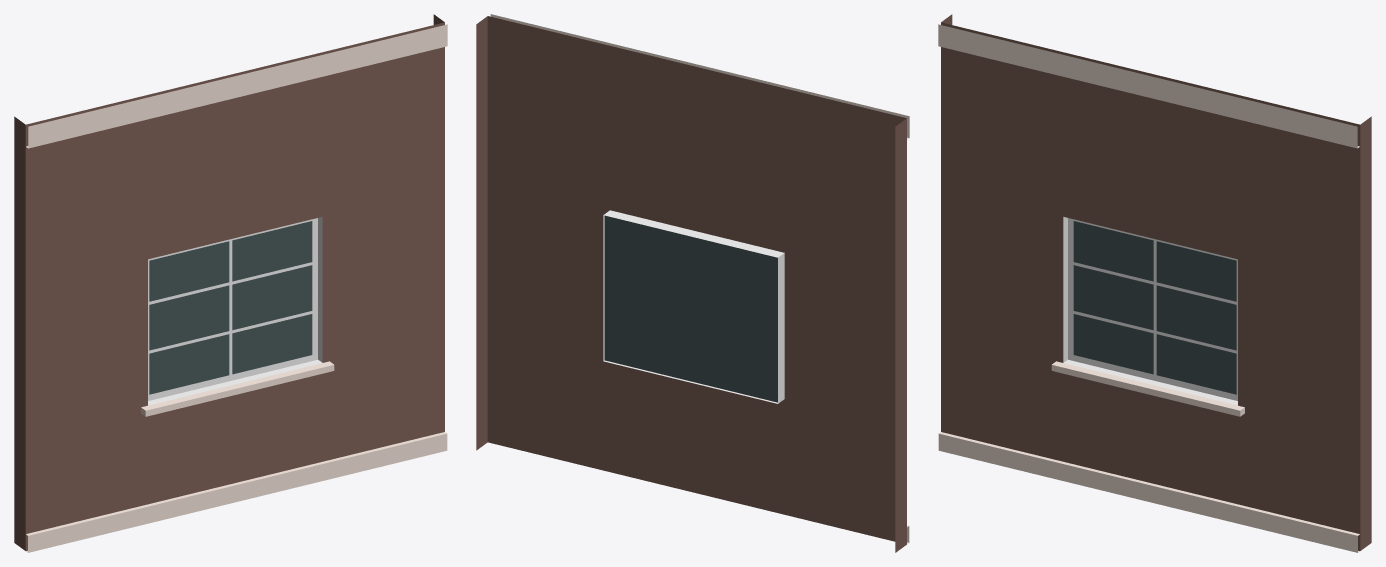
The model's file is mid-stair3.fbx.
The picture shows the model from 3 angles, left to right: view 1: azimuth 30°, elevation 25°; view 2: azimuth 150°, elevation 25°; view 3: azimuth 330°, elevation 25°; orthographic projection.
Visible parts, largest first — view 1: a2000s3/600/mid-stair; view 2: a2000s3/600/mid-stair; view 3: a2000s3/600/mid-stair.
Part boxes in pixels (x1,y1,x2,y2): a2000s3/600/mid-stair: (14,14,447,552); a2000s3/600/mid-stair: (476,14,909,552); a2000s3/600/mid-stair: (938,14,1371,552).
Bounding box in the file's own units: 3.6 × 3.5 × 0.24.
